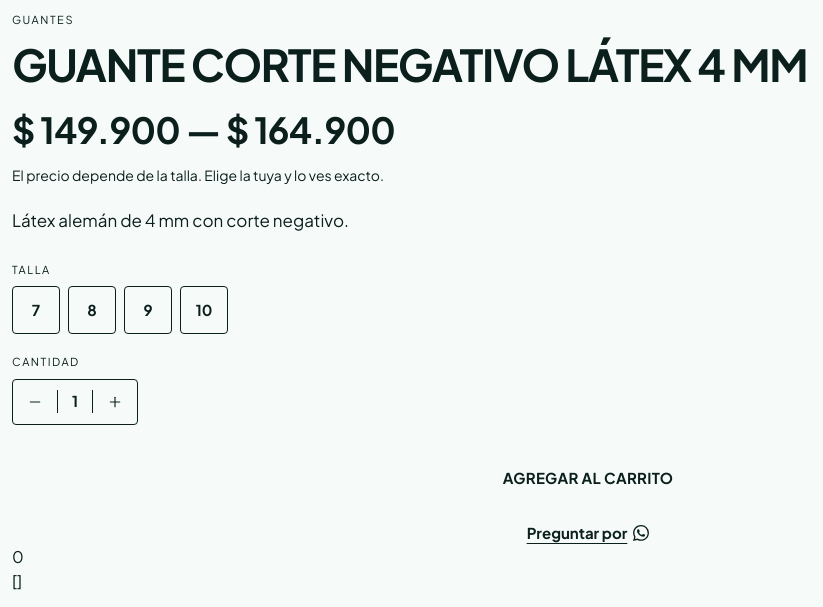
Test case: ProductPurchase › al elegir la talla el rango se reemplaza por el precio de esa talla
Click the button "9" at (148, 310), box [124,286,172,334]
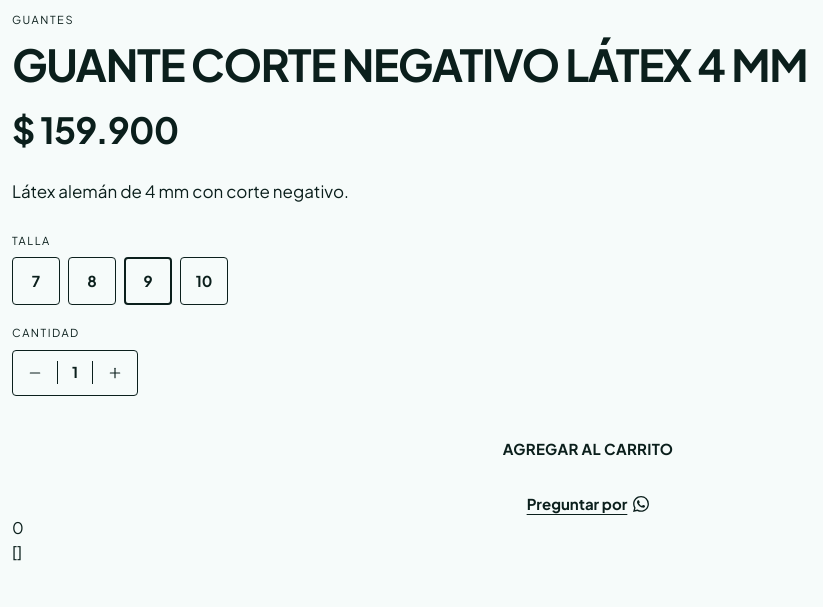
Now the text "$ 159.900" is shown, box [12,107,178,152]
Now the text "$ 149.900" is gone
Now the text "$ 164.900" is gone
